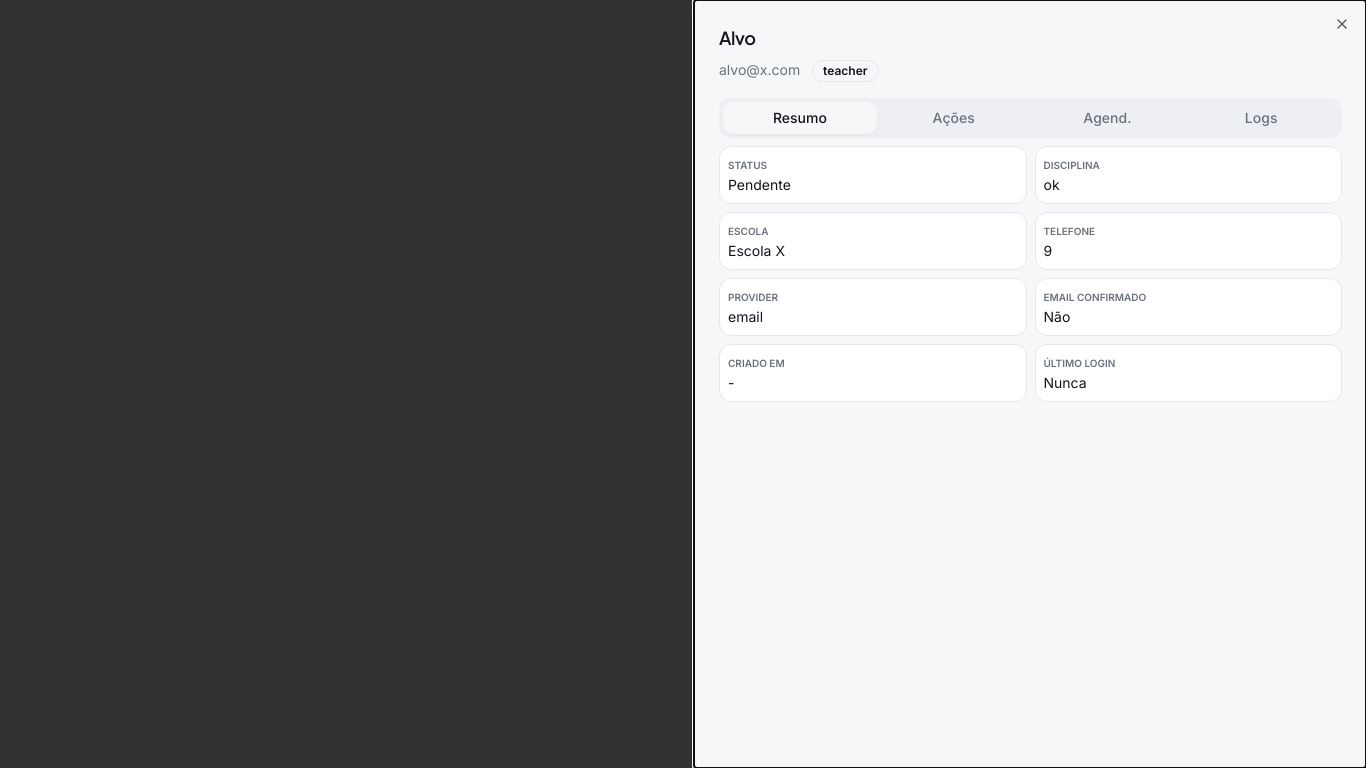
Test: ReasonConfirmDialog — validação de motivo (0 / 2 / 3+ chars) › 0 caracteres: Confirmar desabilitado e nenhuma RPC sensível é chamada
Later steps or results of the test are not shown.
Expected: the text "alvo@x.com teacher" is shown, [719,60,878,82]
Click the tab "Ações": (954, 118) [877,102,1031,134]
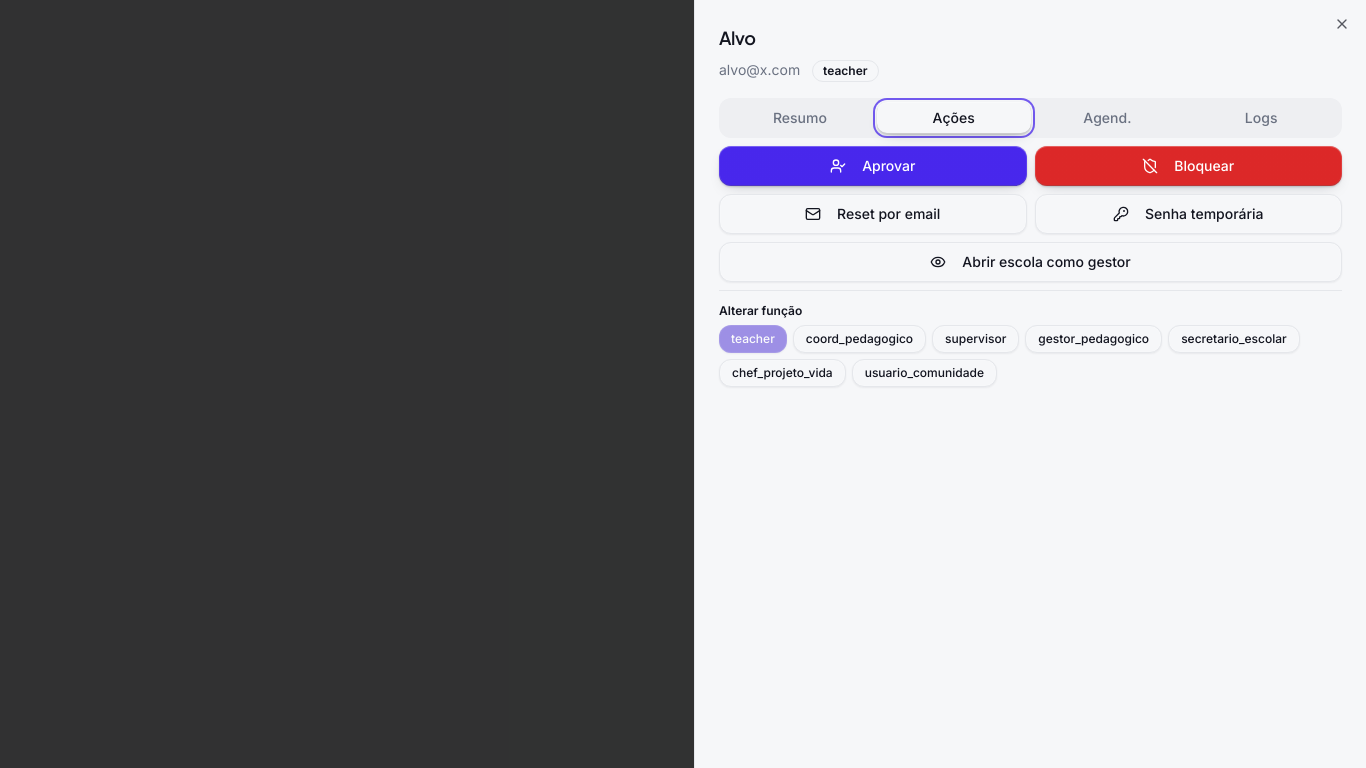
Now the panel named "Ações" is shown, box [719,146,1342,387]
Click the button "Aprovar": (873, 166) [719,146,1026,186]
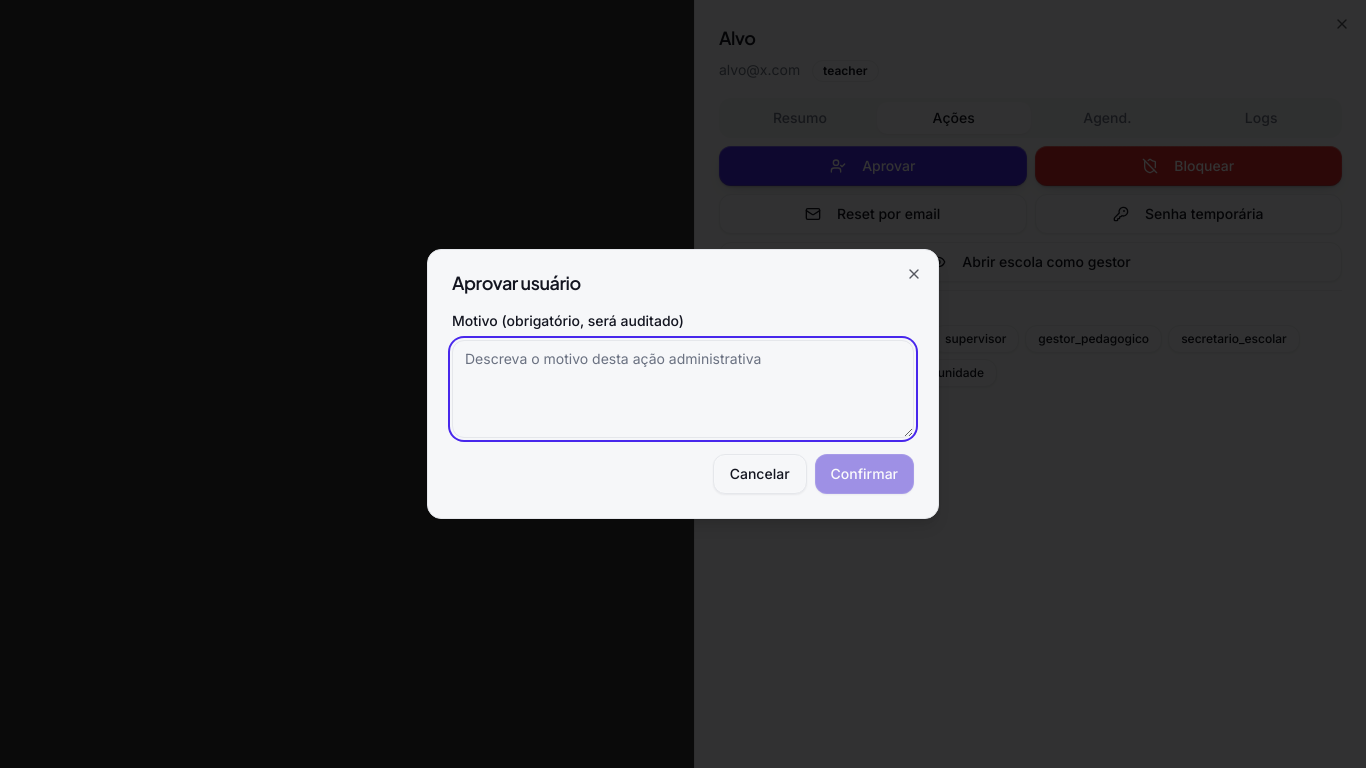
Now the button "Confirmar" is disabled, box [815,454,914,494]
